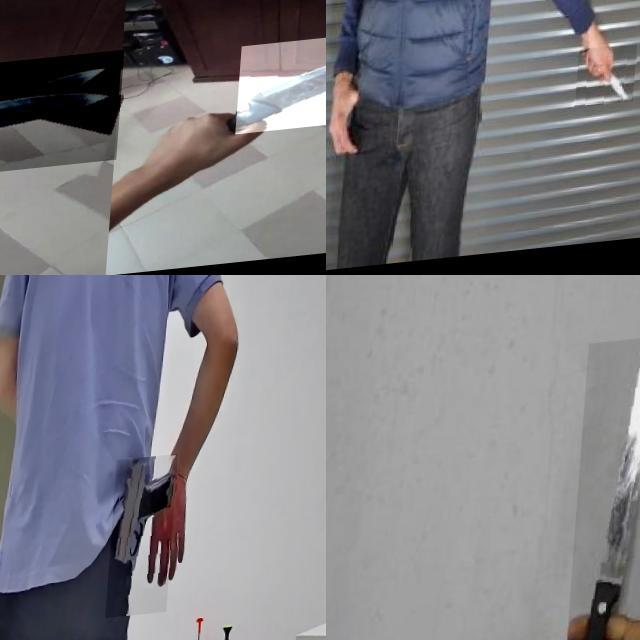-: (567, 344, 640, 640), (0, 56, 131, 186), (242, 40, 326, 144), (582, 52, 640, 115), (0, 0, 55, 63), (250, 0, 267, 22)
gun-knife-thesis - v11 Yolov5 augmented: (112, 462, 182, 624)
